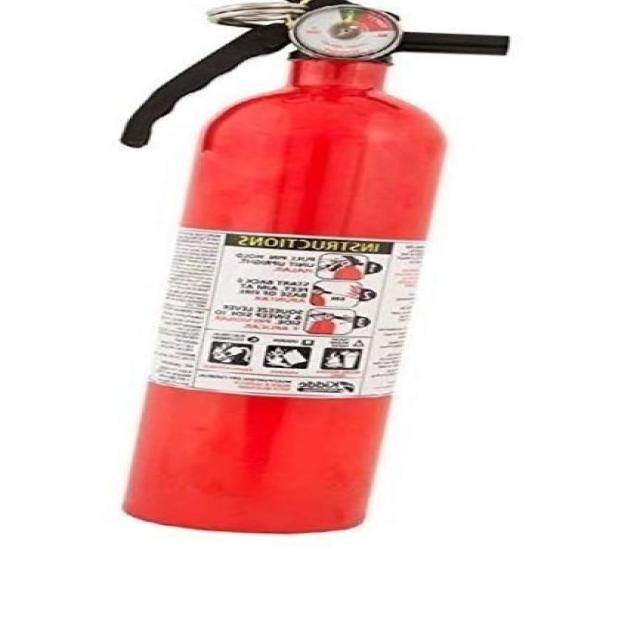fire_extinguisher: (90, 0, 526, 540)
